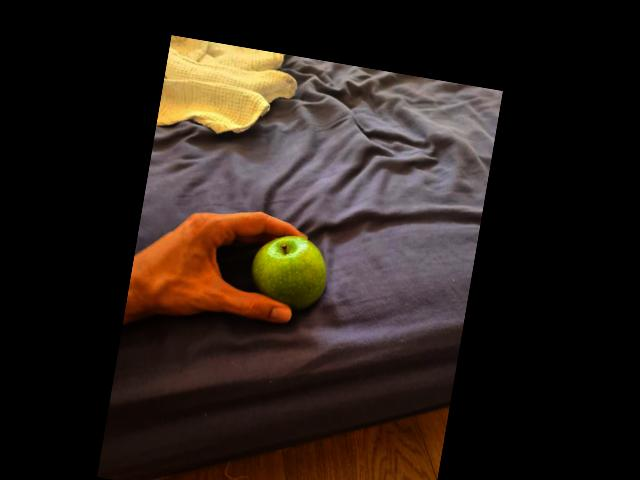apple: (255, 230, 328, 314)
